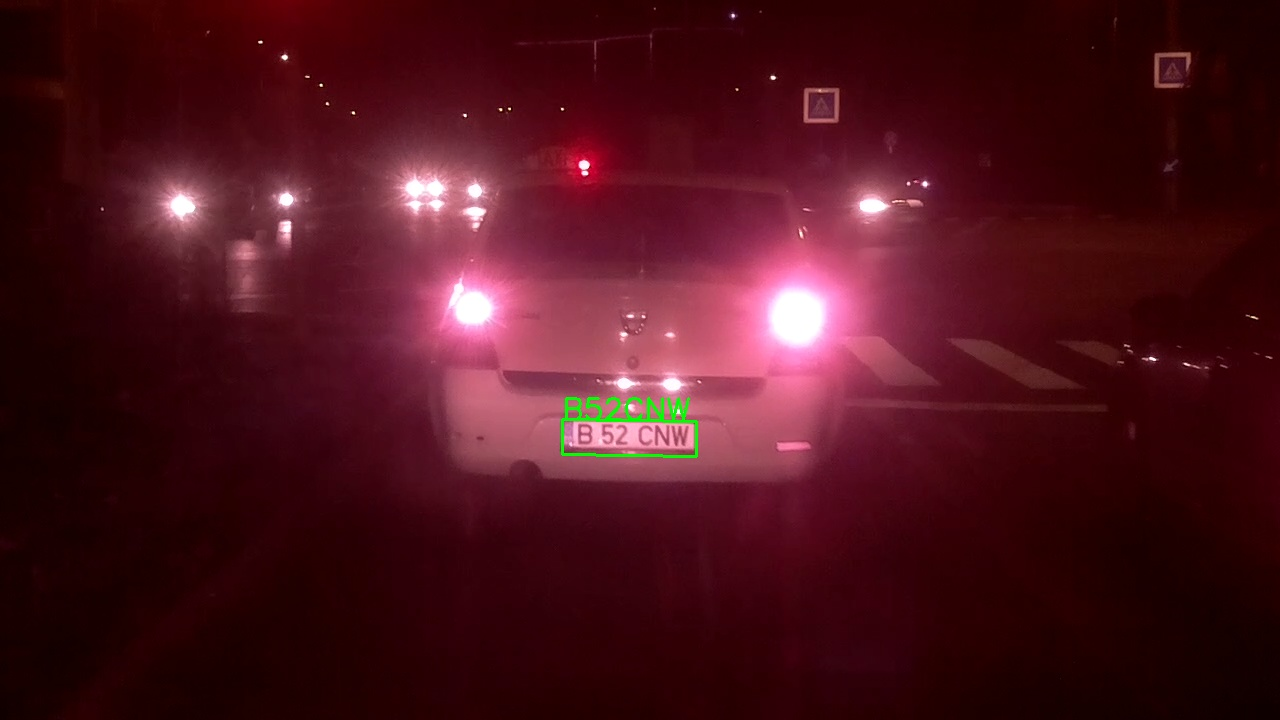license-plate: (561, 419, 698, 457)
